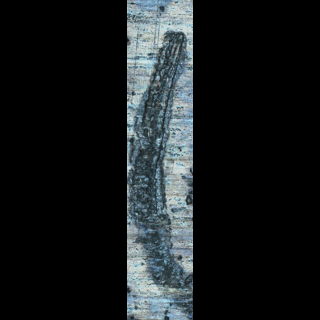d: (126, 27, 190, 313)
